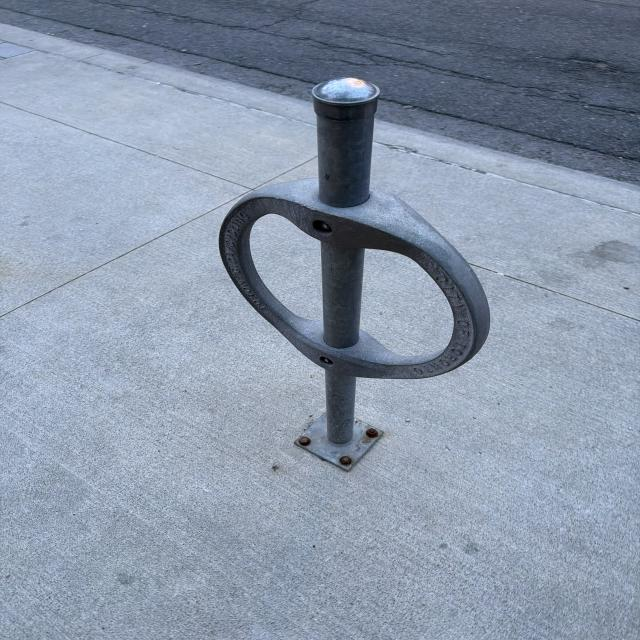Bicycle Rack: (220, 78, 493, 470)
